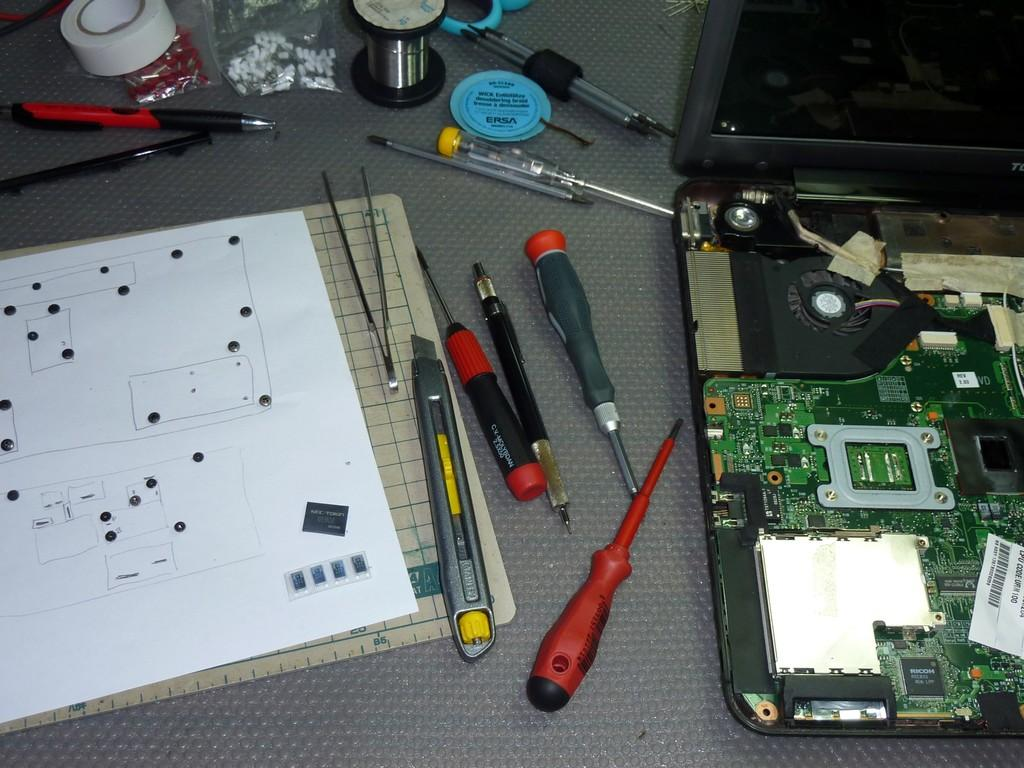pen: (0, 97, 272, 125)
